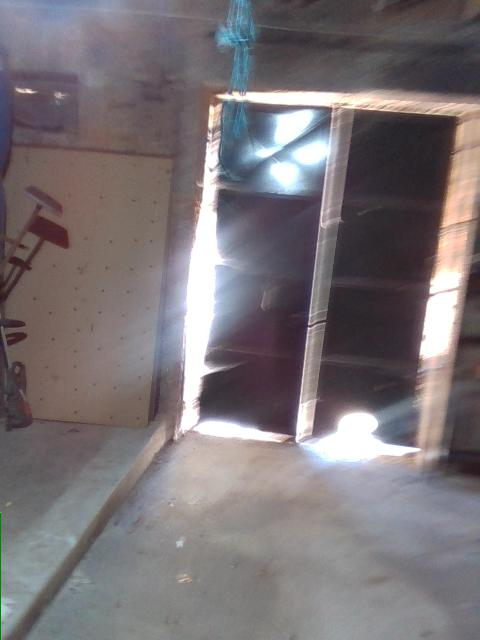door: (173, 89, 478, 475)
